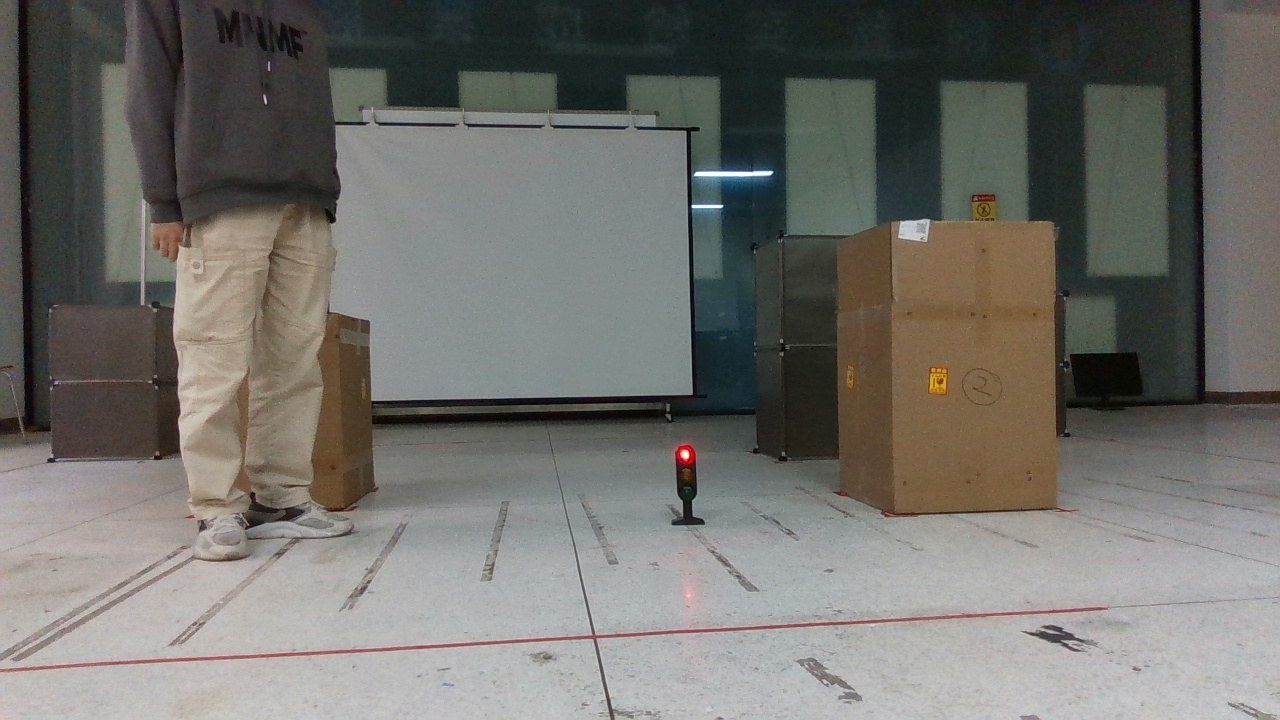red_light: (657, 433, 715, 531)
